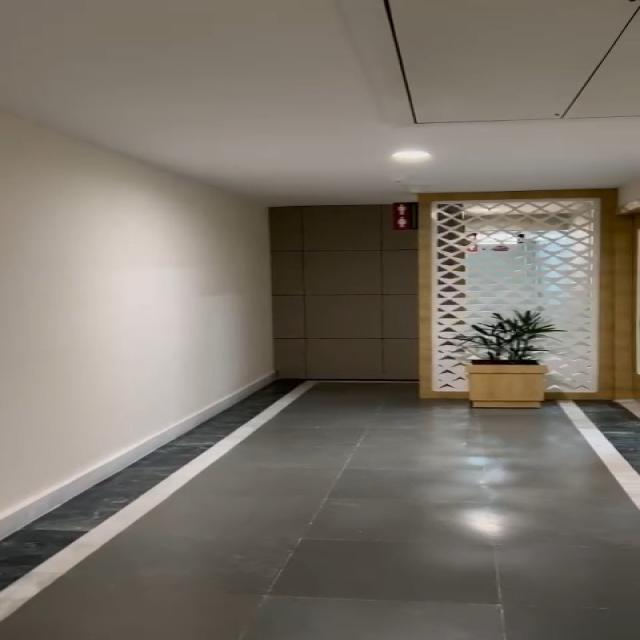floor: (0, 530, 640, 640), (174, 399, 616, 526)
furniture: (449, 295, 560, 421)
wall: (0, 95, 272, 412)
